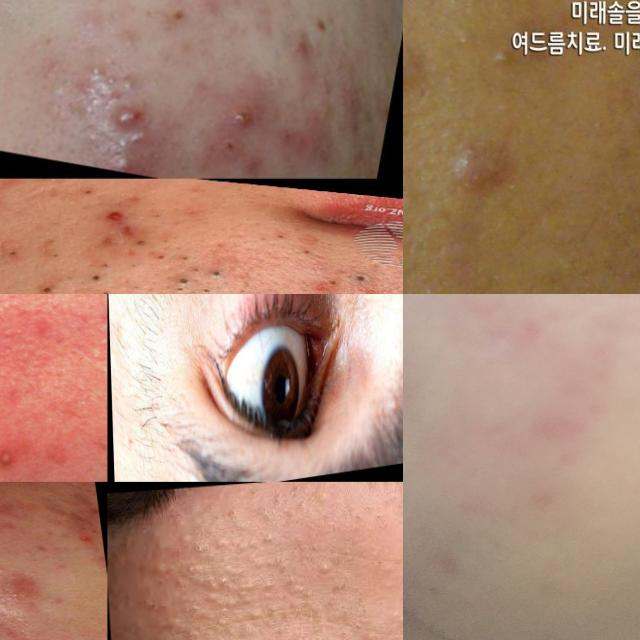comedone: (214, 482, 316, 525), (340, 497, 391, 540), (168, 259, 230, 292), (485, 39, 512, 85), (136, 590, 176, 621), (269, 554, 298, 594), (132, 247, 196, 265), (145, 555, 178, 579), (350, 584, 370, 620), (35, 276, 71, 294), (338, 269, 378, 285), (68, 183, 108, 199), (171, 524, 196, 546), (39, 248, 71, 264), (84, 267, 108, 288), (313, 274, 339, 293), (0, 242, 24, 259), (290, 243, 310, 258), (268, 228, 288, 243), (8, 590, 24, 600), (16, 569, 33, 576)
papule: (277, 16, 328, 71), (93, 204, 134, 227), (72, 536, 98, 548)
pustule: (219, 93, 251, 131), (0, 437, 15, 480), (114, 102, 144, 122)
sebo-crystan-conglo: (75, 67, 116, 121), (110, 130, 148, 160)
